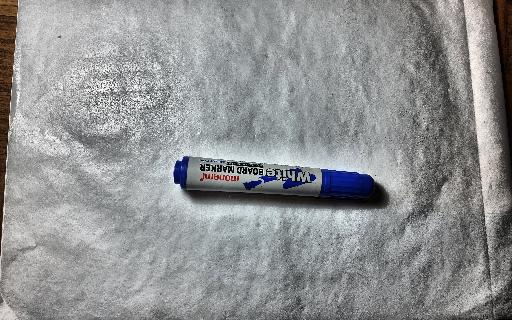marcador azul: (174, 156, 375, 199)
